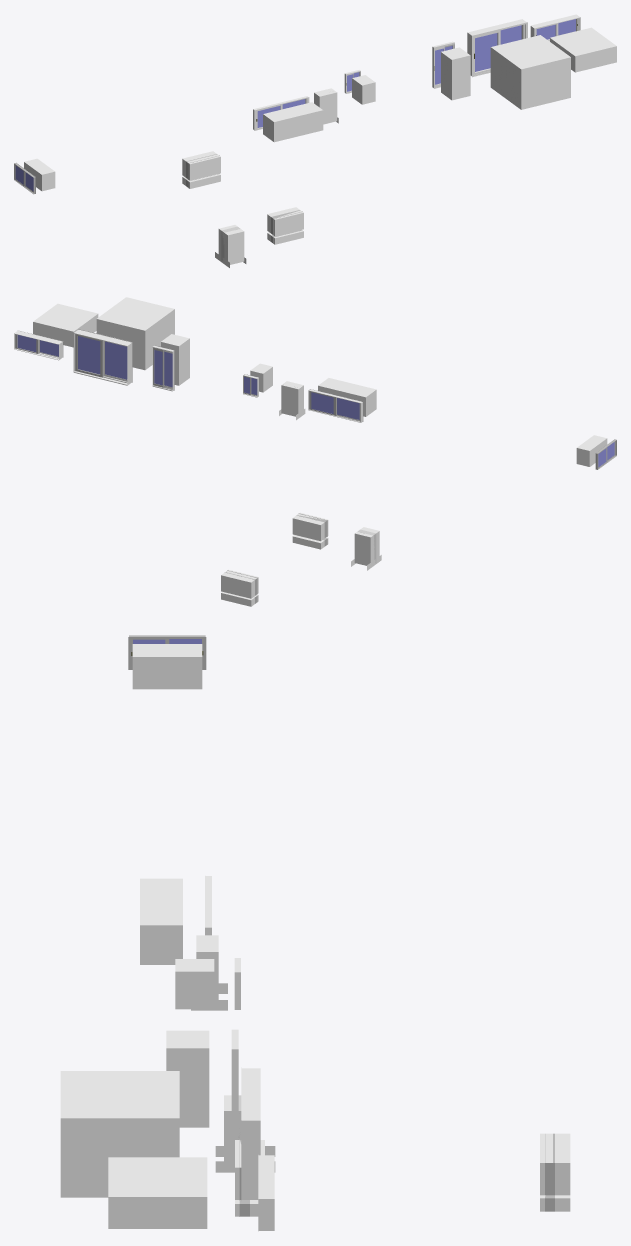
File: Doors & Windows.fbx
The picture shows the model from 3 angles, top to bottom: view 1: azimuth 30°, elevation 25°; view 2: azimuth 150°, elevation 25°; view 3: azimuth 270°, elevation 25°; orthographic projection. The views are drawn at different scales.
Parts seen in each view (by area): view 1: CTRL_Hole.009, CTRL_Hole.010, CTRL_Hole.006, CTRL_Hole.011, CTRL_Hole.003, CTRL_Hole, Window.R.008, CTRL_Hole.001, WindowFrame.008, CTRL_Hole.005, CTRL_Hole.007, CTRL_Hole.008 (+1 smaller); view 2: CTRL_Hole.009, CTRL_Hole.010, Window.L.008, CTRL_Hole.006, CTRL_Hole.011, WindowFrame.008, Window.R.008, CTRL_Hole.003, CTRL_Hole, CTRL_Hole.001, CTRL_Hole.007, CTRL_Hole.005 (+4 smaller); view 3: CTRL_Hole.009, CTRL_Hole.010, CTRL_Hole.006, CTRL_Hole.011, CTRL_Hole.005, WindowFrame.008, CTRL_Hole.008, CTRL_Hole.003, WindowFrame.009, WindowFrame.010, CTRL_Hole.
Boxes of the visible parts, x1,y1,x2,y2 form: CTRL_Hole.009: [490, 35, 570, 109]; CTRL_Hole.010: [550, 27, 616, 72]; CTRL_Hole.006: [263, 102, 323, 142]; CTRL_Hole.011: [441, 47, 470, 100]; CTRL_Hole.003: [182, 151, 220, 180]; CTRL_Hole: [218, 225, 244, 264]; Window.R.008: [474, 30, 500, 74]; CTRL_Hole.001: [267, 207, 303, 236]; WindowFrame.008: [467, 19, 527, 77]; CTRL_Hole.005: [24, 158, 55, 191]; CTRL_Hole.007: [314, 88, 337, 124]; CTRL_Hole.008: [352, 75, 375, 104]; CTRL_Hole.009: [96, 297, 174, 370]; CTRL_Hole.010: [33, 303, 98, 347]; Window.L.008: [75, 334, 104, 377]; CTRL_Hole.006: [318, 378, 376, 416]; CTRL_Hole.011: [161, 334, 189, 385]; WindowFrame.008: [73, 329, 132, 385]; Window.R.008: [104, 341, 127, 381]; CTRL_Hole.003: [221, 569, 258, 598]; CTRL_Hole: [354, 527, 379, 565]; CTRL_Hole.001: [292, 512, 328, 541]; CTRL_Hole.007: [281, 381, 303, 416]; CTRL_Hole.005: [576, 435, 607, 466]; CTRL_Hole.009: [60, 1071, 179, 1197]; CTRL_Hole.010: [108, 1157, 207, 1228]; CTRL_Hole.006: [140, 878, 182, 964]; CTRL_Hole.011: [166, 1030, 209, 1127]; CTRL_Hole.005: [132, 644, 202, 689]; WindowFrame.008: [241, 1067, 260, 1200]; CTRL_Hole.008: [175, 959, 214, 1009]; CTRL_Hole.003: [540, 1133, 570, 1195]; WindowFrame.009: [258, 1155, 274, 1231]; WindowFrame.010: [231, 1029, 238, 1128]; CTRL_Hole: [224, 1095, 241, 1165].
Bounding box in the file's own units: 4434 × 1221 × 1726.
